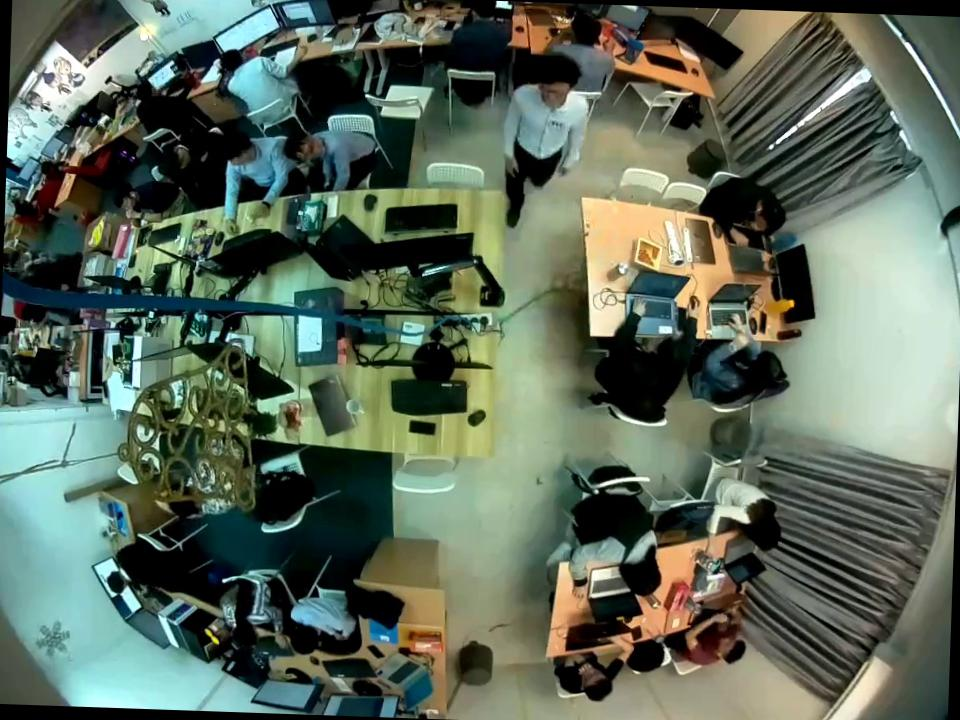employee_tag: (548, 116, 566, 134)
